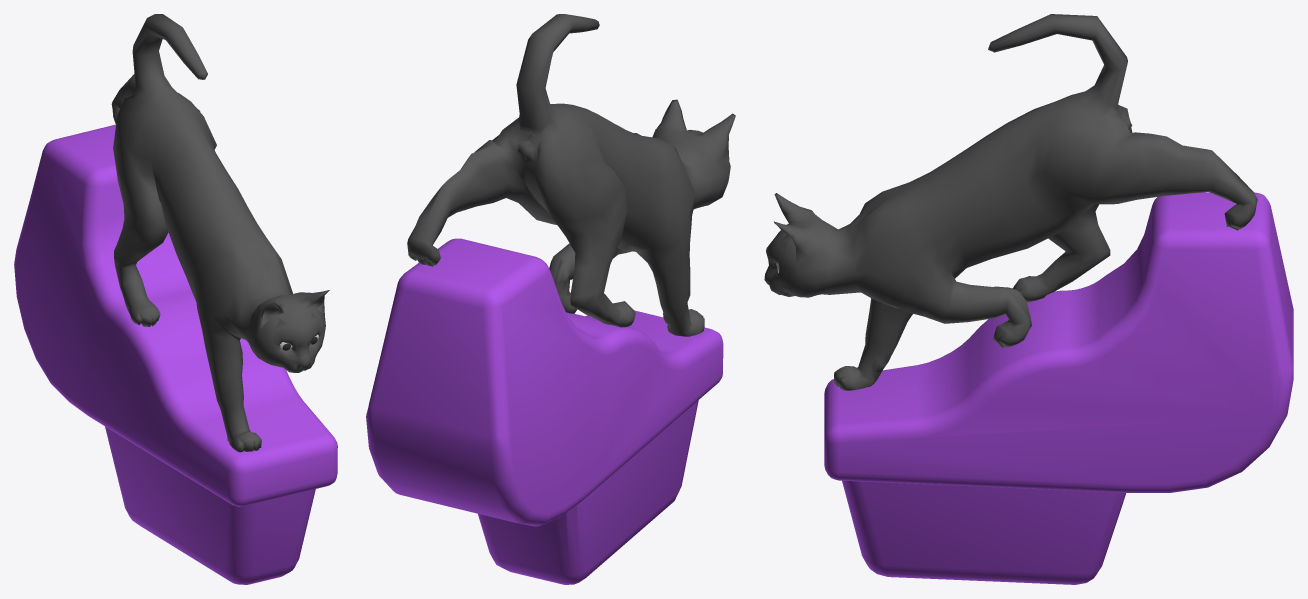
Rendered from cat2.fbx.
3 renders of one model, left to right at view 1: azimuth 30°, elevation 25°; view 2: azimuth 150°, elevation 25°; view 3: azimuth 270°, elevation 25°, orthographic. The views are drawn at different scales.
Parts seen in each view (by area): view 1: Cube, kedi2; view 2: Cube, kedi2; view 3: Cube, kedi2.
Boxes of the visible parts, <box> form: Cube: <box>14,124,337,584</box>; kedi2: <box>111,14,329,452</box>; Cube: <box>366,238,723,584</box>; kedi2: <box>407,14,735,336</box>; Cube: <box>824,192,1293,584</box>; kedi2: <box>764,14,1257,390</box>.
Size of the model in its own units: 56.82 by 210 by 183.
